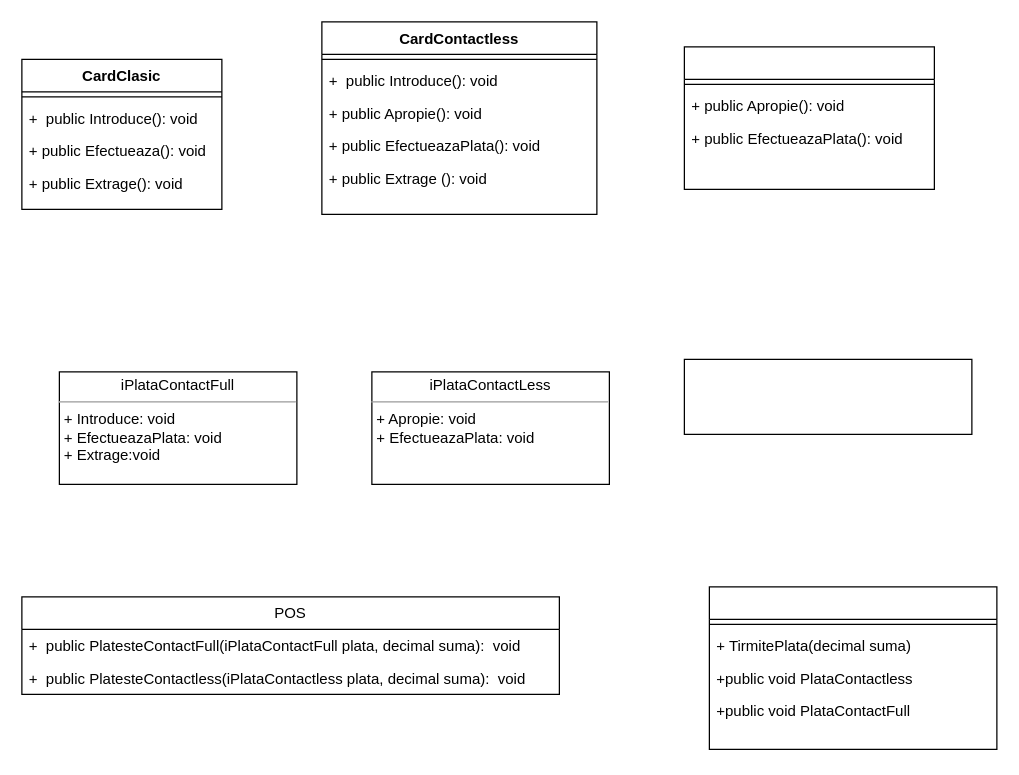
Image size: 1019x775. Some labels were removed from this diagram. The box of each missing label's shape, as (x1, y1, x2, y2) in pixels:
iComunicarePOS + TrimitePlata(decimal, suma): void: (683, 358, 972, 434)
PunctVanzare: (708, 586, 997, 749)
TelefonContactless: (683, 46, 934, 189)
